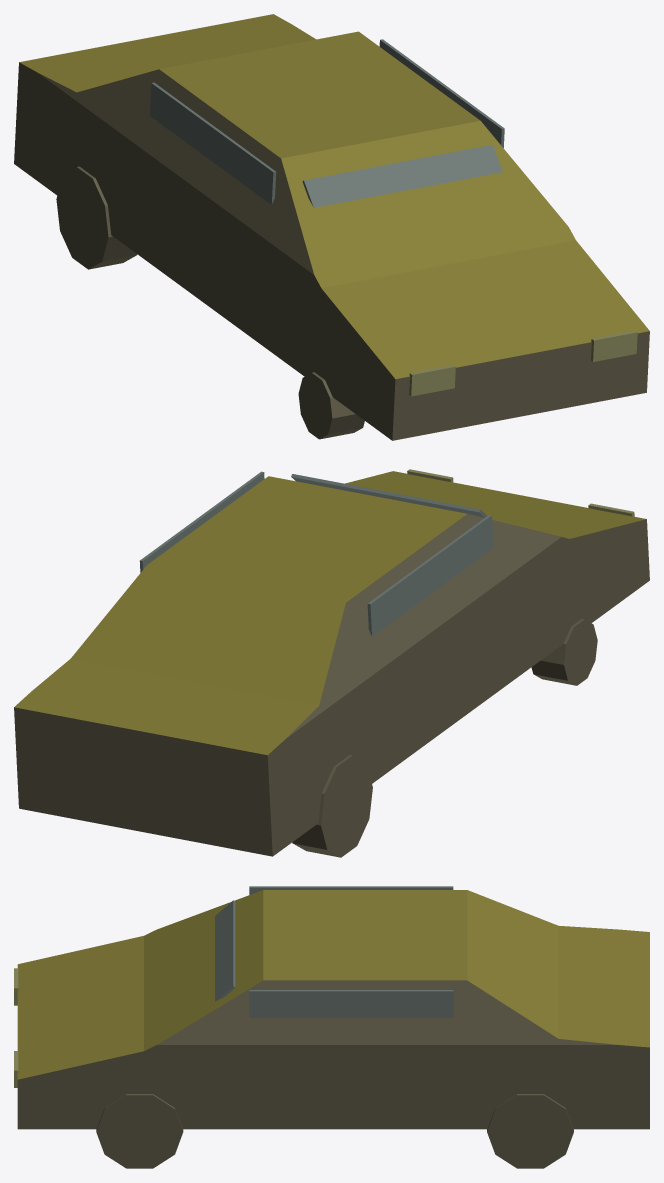
File: SM_CocheCivil_Berlina_v2_LOD0.fbx
3 renders of one model, top to bottom at view 1: azimuth 30°, elevation 25°; view 2: azimuth 150°, elevation 25°; view 3: azimuth 270°, elevation 25°, orthographic. The views are drawn at different scales.
Visible parts, largest first — view 1: SM_coche_civil_v7_LOD0; view 2: SM_coche_civil_v7_LOD0; view 3: SM_coche_civil_v7_LOD0.
Part boxes in pixels (left/top/right/bottom): SM_coche_civil_v7_LOD0: left=14, top=14, right=649, bottom=440; SM_coche_civil_v7_LOD0: left=14, top=469, right=649, bottom=857; SM_coche_civil_v7_LOD0: left=14, top=886, right=649, bottom=1168.
Bounding box in the file's own units: 1.82 × 1.49 × 4.53.
